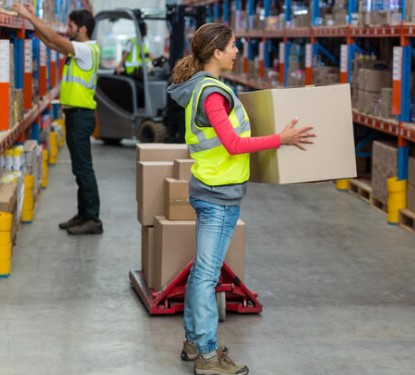stock: (243, 83, 357, 185)
worker: (185, 25, 251, 185), (60, 9, 96, 110)
